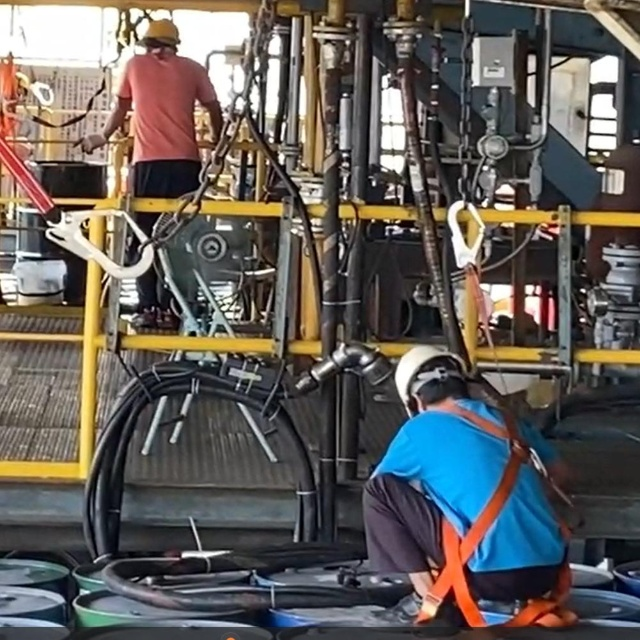Arnes_seguridad: (406, 396, 579, 632)
